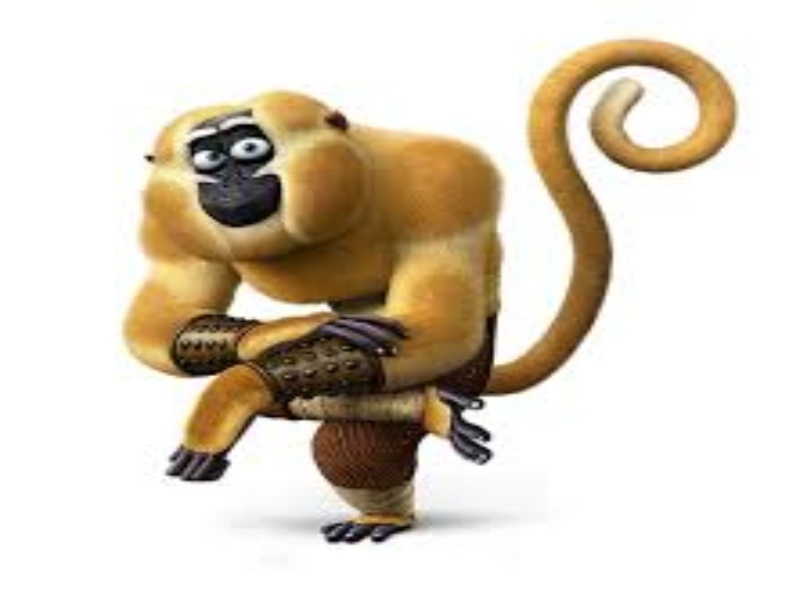monkey: (115, 80, 371, 267)
